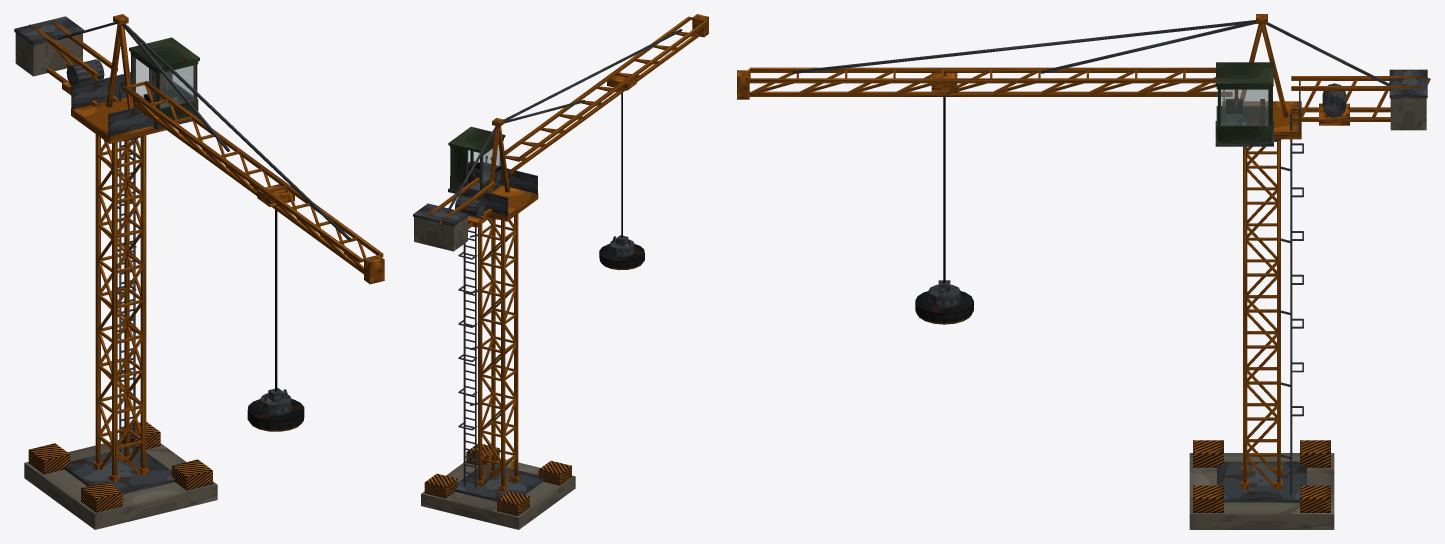
File: TowerCrane.fbx
3 views of the same model, side by side, from view 1: azimuth 30°, elevation 25°; view 2: azimuth 150°, elevation 25°; view 3: azimuth 270°, elevation 25° (orthographic). The views are drawn at different scales.
Parts seen in each view (by area): view 1: TC_Mast, TC_Base, TC_Slew, TC_Jib, TC_CounterJib, TC_Cab, TC_Magnet, TC_Ladder, TC_Cab_Glass, TC_Rope; view 2: TC_Mast, TC_Base, TC_Jib, TC_Slew, TC_CounterJib, TC_Ladder, TC_Cab, TC_Magnet, TC_Cab_Glass; view 3: TC_Base, TC_Jib, TC_Mast, TC_CounterJib, TC_Slew, TC_Cab, TC_Magnet, TC_Cab_Glass, TC_Ladder.
Part boxes in pixels (x1,y1,x2,y2): TC_Mast: (95,134,146,475); TC_Base: (24,422,217,529); TC_Slew: (57,14,351,240); TC_Jib: (123,81,384,284); TC_CounterJib: (14,16,117,106); TC_Cab: (129,37,199,129); TC_Magnet: (247,388,304,431); TC_Ladder: (117,91,136,455); TC_Cab_Glass: (133,57,195,108); TC_Rope: (275,209,277,391); TC_Mast: (478,214,518,486); TC_Base: (421,443,575,529); TC_Jib: (500,14,708,174); TC_Slew: (448,29,682,221); TC_CounterJib: (413,177,495,251); TC_Ladder: (458,227,479,488); TC_Cab: (448,126,505,193); TC_Magnet: (599,235,644,270); TC_Cab_Glass: (468,145,501,182); TC_Base: (1189,440,1334,529); TC_Jib: (737,67,1232,99); TC_Mast: (1243,139,1280,488); TC_CounterJib: (1291,69,1430,130); TC_Slew: (792,14,1389,141); TC_Cab: (1215,62,1273,146); TC_Magnet: (915,280,973,324); TC_Cab_Glass: (1217,89,1268,125); TC_Ladder: (1280,113,1303,494).
Size of the model in its own units: 4.2 by 15.44 by 20.1.
